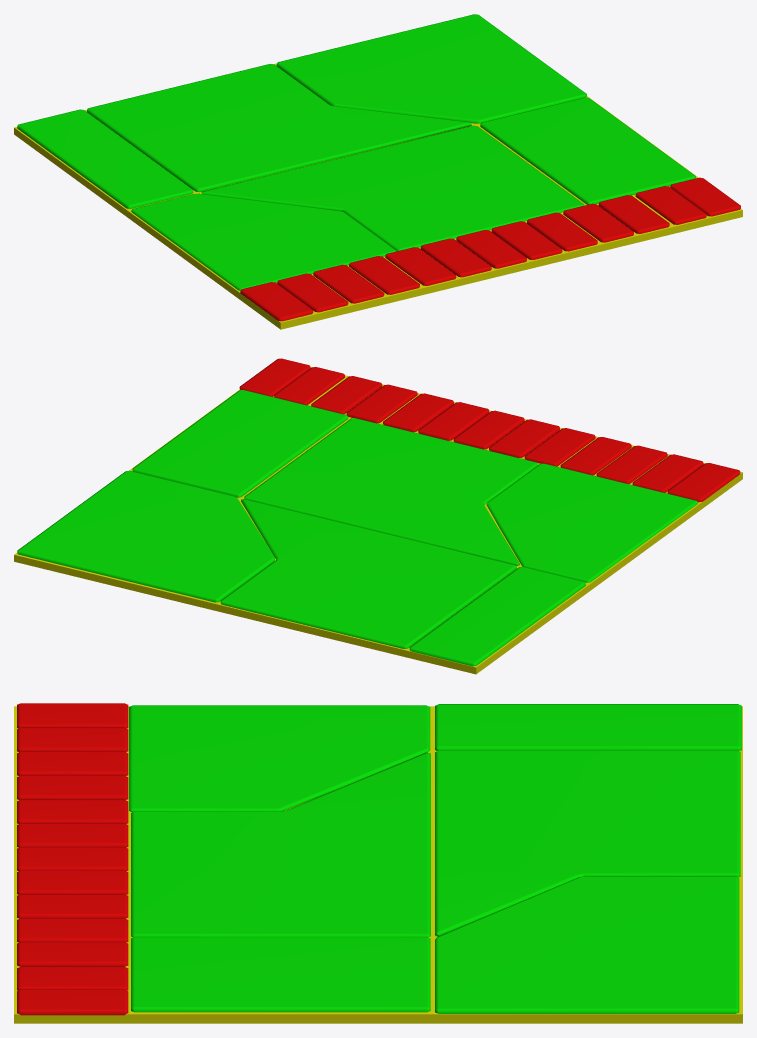
Rendered from F_Floor_4.fbx.
3 views of the same model, one above another, from view 1: azimuth 30°, elevation 25°; view 2: azimuth 150°, elevation 25°; view 3: azimuth 270°, elevation 25° (orthographic). The views are drawn at different scales.
Parts seen in each view (by area): view 1: P_Floor_4; view 2: P_Floor_4; view 3: P_Floor_4.
Part boxes in pixels (bbox=[...]): P_Floor_4: bbox=[14, 14, 742, 329]; P_Floor_4: bbox=[14, 358, 742, 674]; P_Floor_4: bbox=[14, 703, 742, 1023].
Bounding box in the file's own units: 701 × 14.51 × 700.
